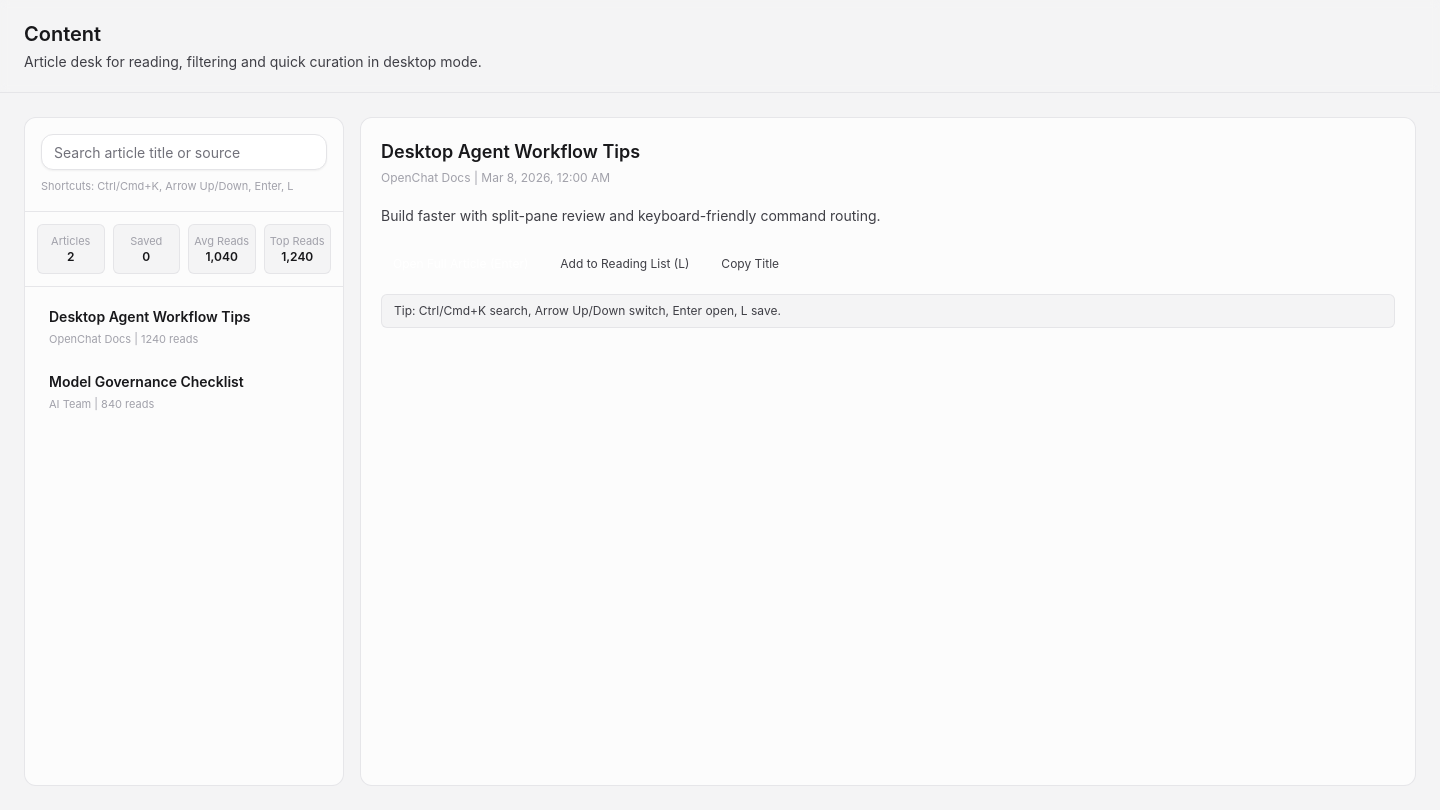
ArticlesPage desktop interactions › filters article list by keyword
Type "governance" into the field with placeholder "Search article title or source" at (184, 152), box [41,134,327,170]
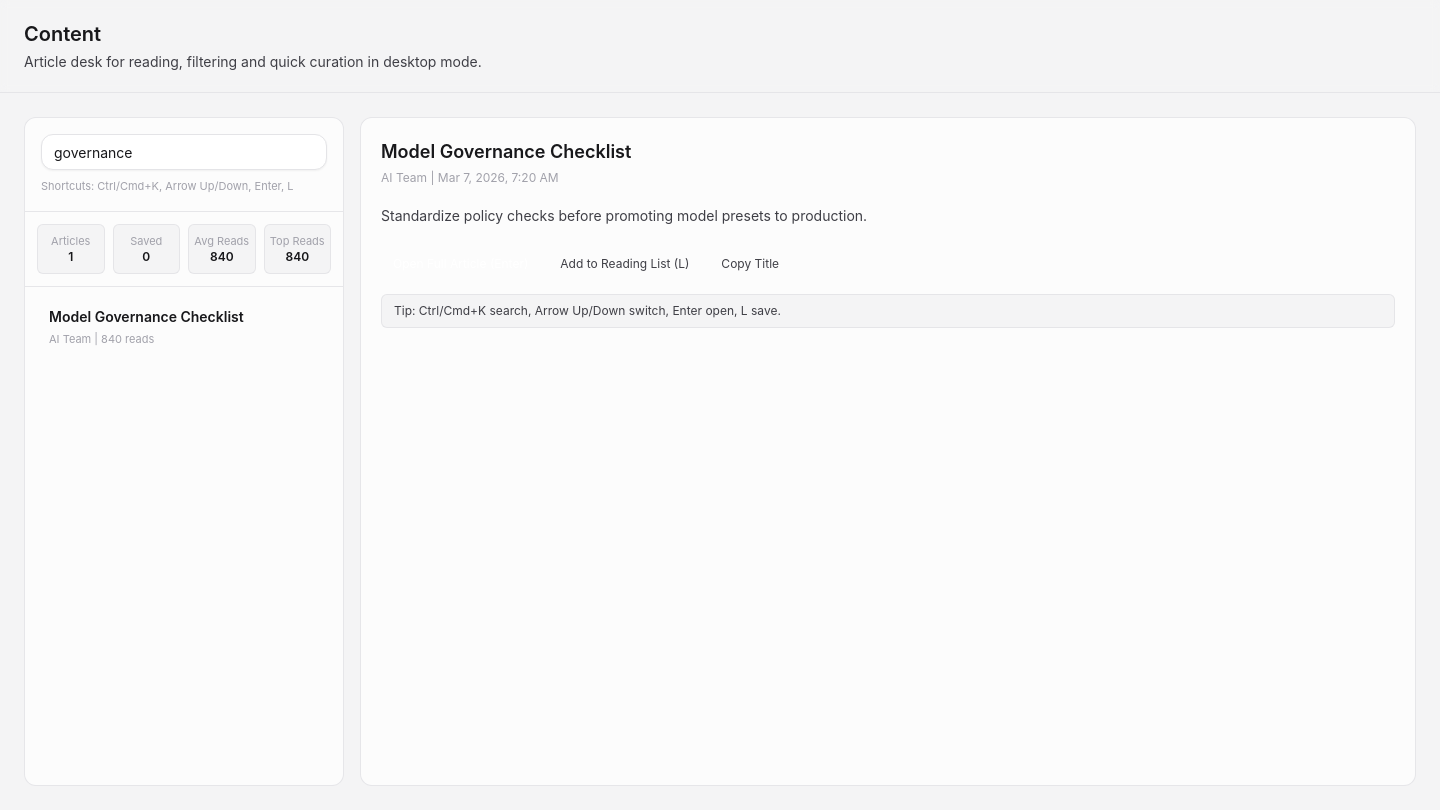
Check: the text "Model Governance Checklist" is shown, box [49,308,244,325]
Check: the button "Desktop Agent Workflow Tips" is gone
